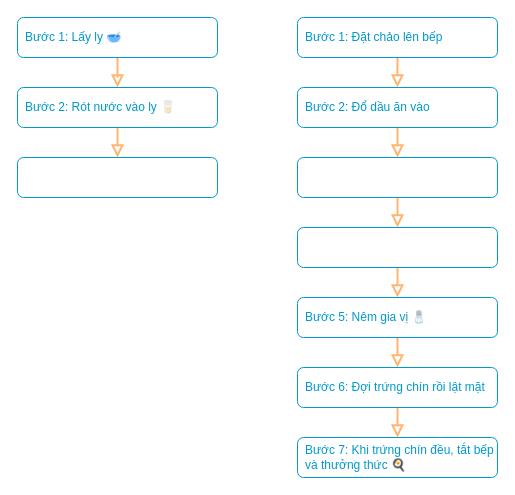
Image size: 515x495. Some labels were removed from this diagram. Here are the shapes that lost their labels. From the top down, the centre of each, then its label:
(x=117, y=177): Bước 3: Đưa ly lên miệng và uống 🫗
(x=397, y=177): Bước 3: Bật lửa và đợi dầu nóng 🔥
(x=397, y=247): Bước 4: Đập trứng 🥚
